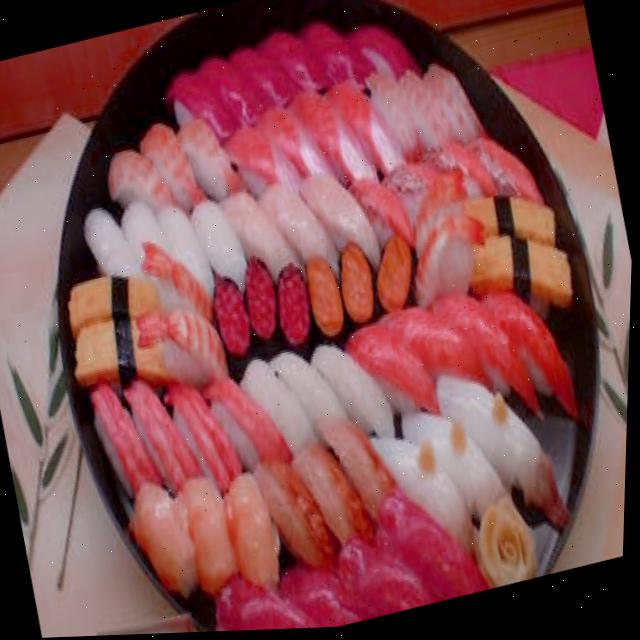寿司卷物: (0, 165, 394, 640)
